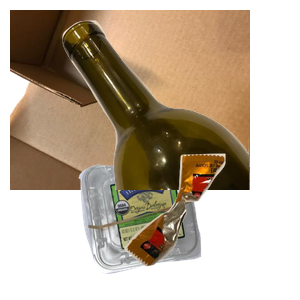cardboard: (10, 10, 250, 190)
glass: (60, 18, 300, 198)
plastic: (76, 151, 270, 300)
trash: (122, 151, 300, 300)
